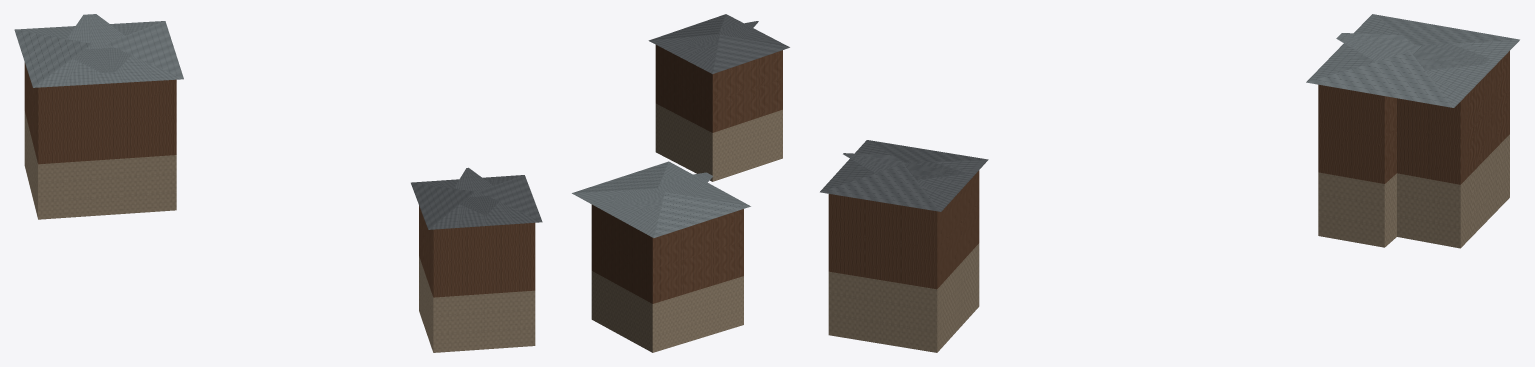
File: bld_c7_39_524.gltf
The picture shows the model from 3 angles, left to right: view 1: azimuth 30°, elevation 25°; view 2: azimuth 150°, elevation 25°; view 3: azimuth 270°, elevation 25°; orthographic projection. The views are drawn at different scales.
Parts seen in each view (by area): view 1: bld_c7_39_524; view 2: bld_c7_39_524; view 3: bld_c7_39_524.
Part boxes in pixels (x1,y1,x2,y2): bld_c7_39_524: (14,14,542,352); bld_c7_39_524: (572,14,789,352); bld_c7_39_524: (820,14,1519,352).
Bounding box in the file's own units: 29.33 × 14.8 × 50.94.
Materials: 4 (4 with a texture image).
